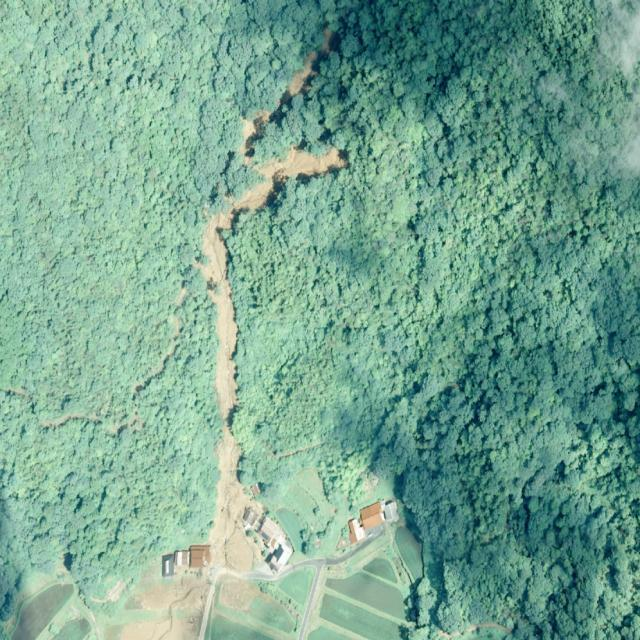landslide: (196, 146, 348, 572), (240, 28, 336, 160)
